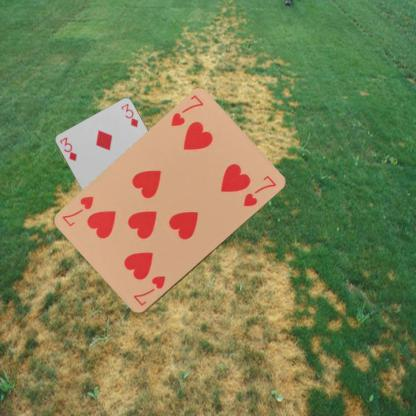3d: (57, 135, 78, 162)
7h: (168, 92, 205, 128), (130, 273, 166, 308)
